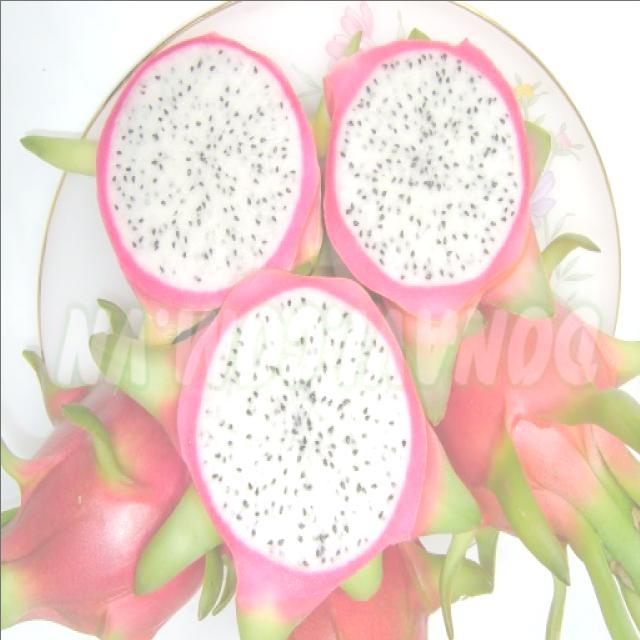trang: (171, 272, 464, 632), (316, 25, 554, 322), (449, 309, 639, 639), (95, 30, 318, 308), (1, 345, 211, 639)
